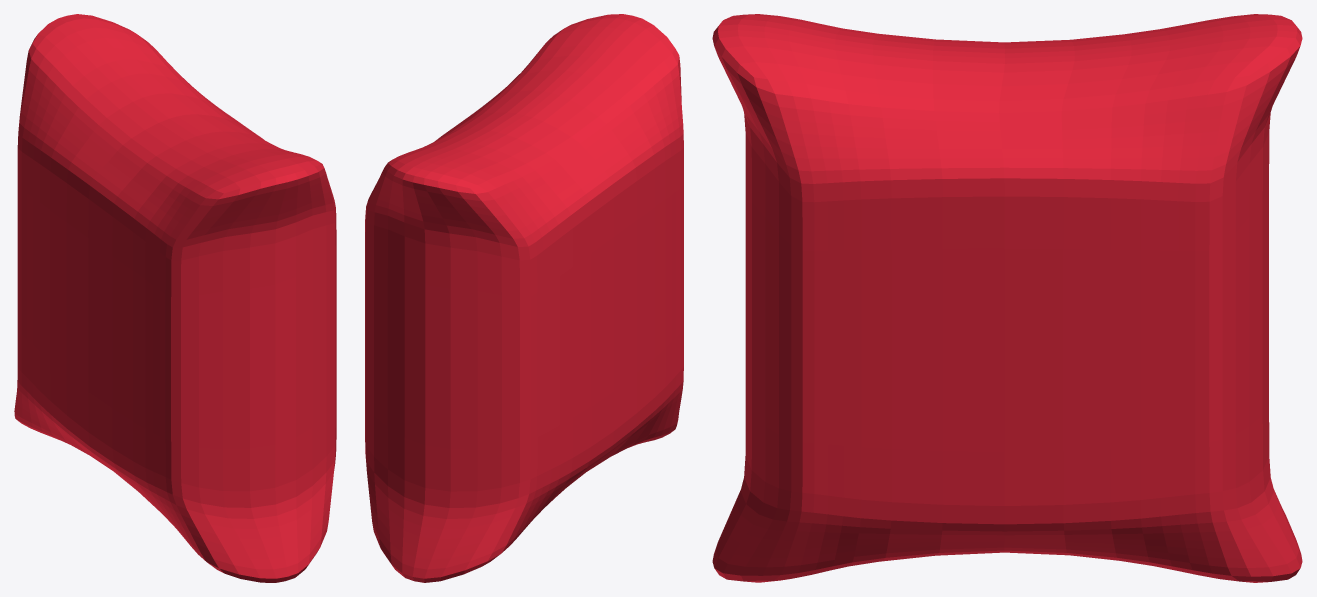
File: Almofada.fbx
3 renders of one model, left to right at view 1: azimuth 30°, elevation 25°; view 2: azimuth 150°, elevation 25°; view 3: azimuth 270°, elevation 25°, orthographic. The views are drawn at different scales.
Parts seen in each view (by area): view 1: low poly.001; view 2: low poly.001; view 3: low poly.001.
Part boxes in pixels (x1,y1,x2,y2): low poly.001: (14, 14, 336, 582); low poly.001: (365, 14, 683, 582); low poly.001: (712, 14, 1302, 582).
Bounding box in the file's own units: 94.33 × 206 × 204.
